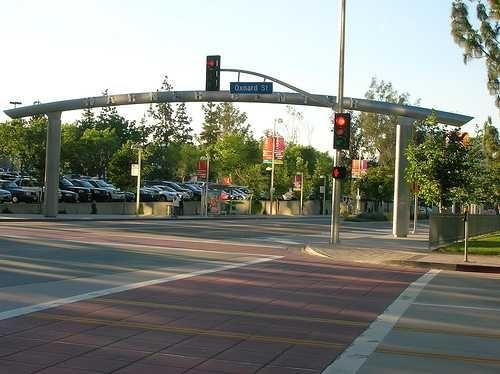red: (331, 111, 351, 154), (205, 54, 221, 90), (333, 166, 345, 181)
